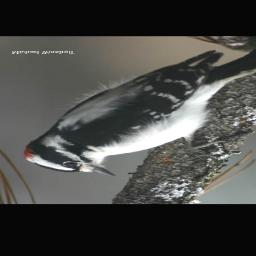Woodpecker: (23, 43, 256, 176)
